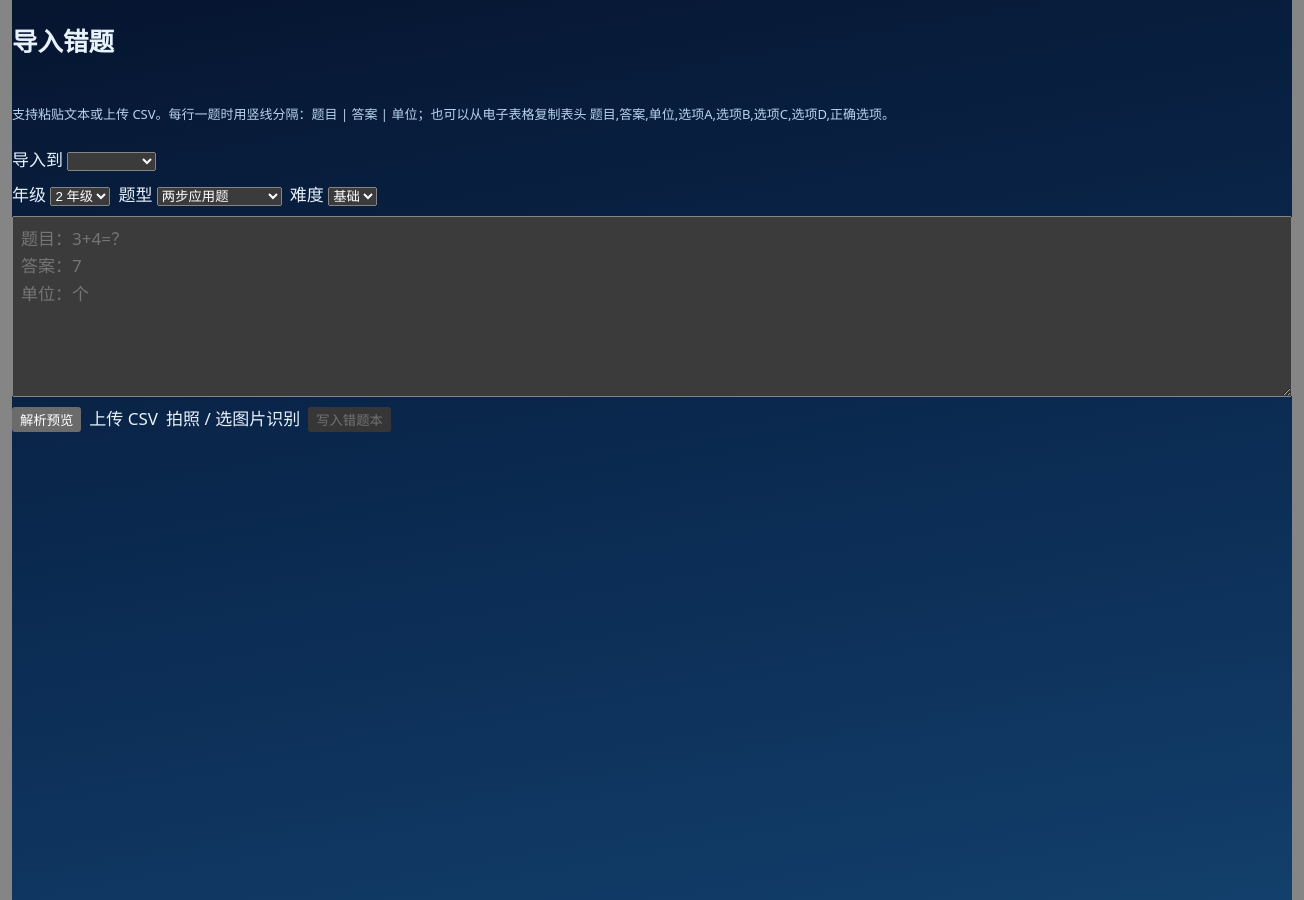
Scenario: MistakeImportSection › 解析预览并写入所选孩子的自定义题库
Type "题目：3+4=？ 答案：7 单位：个" into the text box with test id "mistake-import-text" at [652, 307], box [12,216,1292,397]
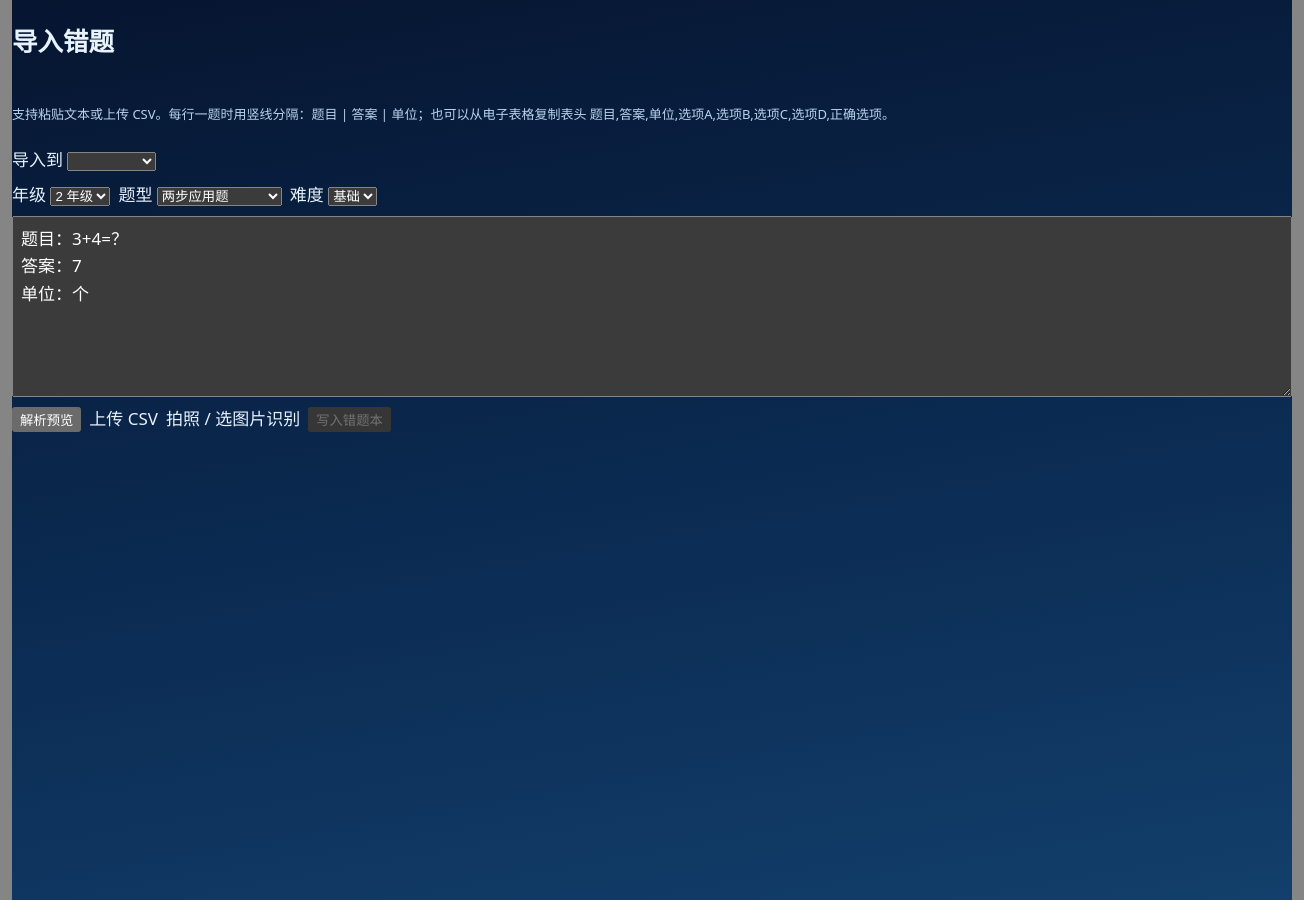
Click the button with test id "mistake-import-parse" at [47, 419], box [12,406,81,432]
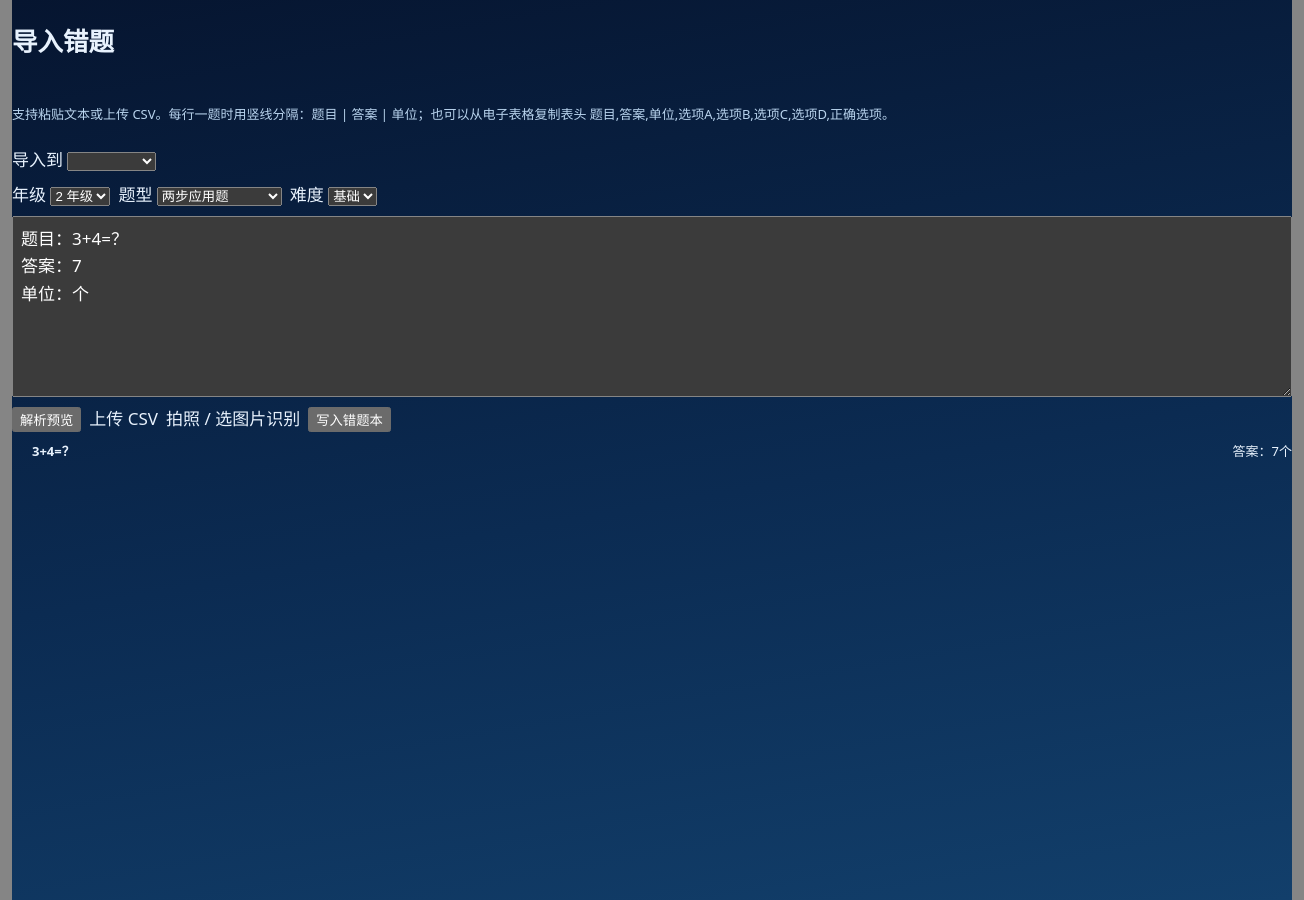
Check: the list with test id "mistake-import-preview" shows "3+4=？", box [32,442,75,460]
Click the button with test id "mistake-import-save" at [350, 419], box [308,406,391,432]
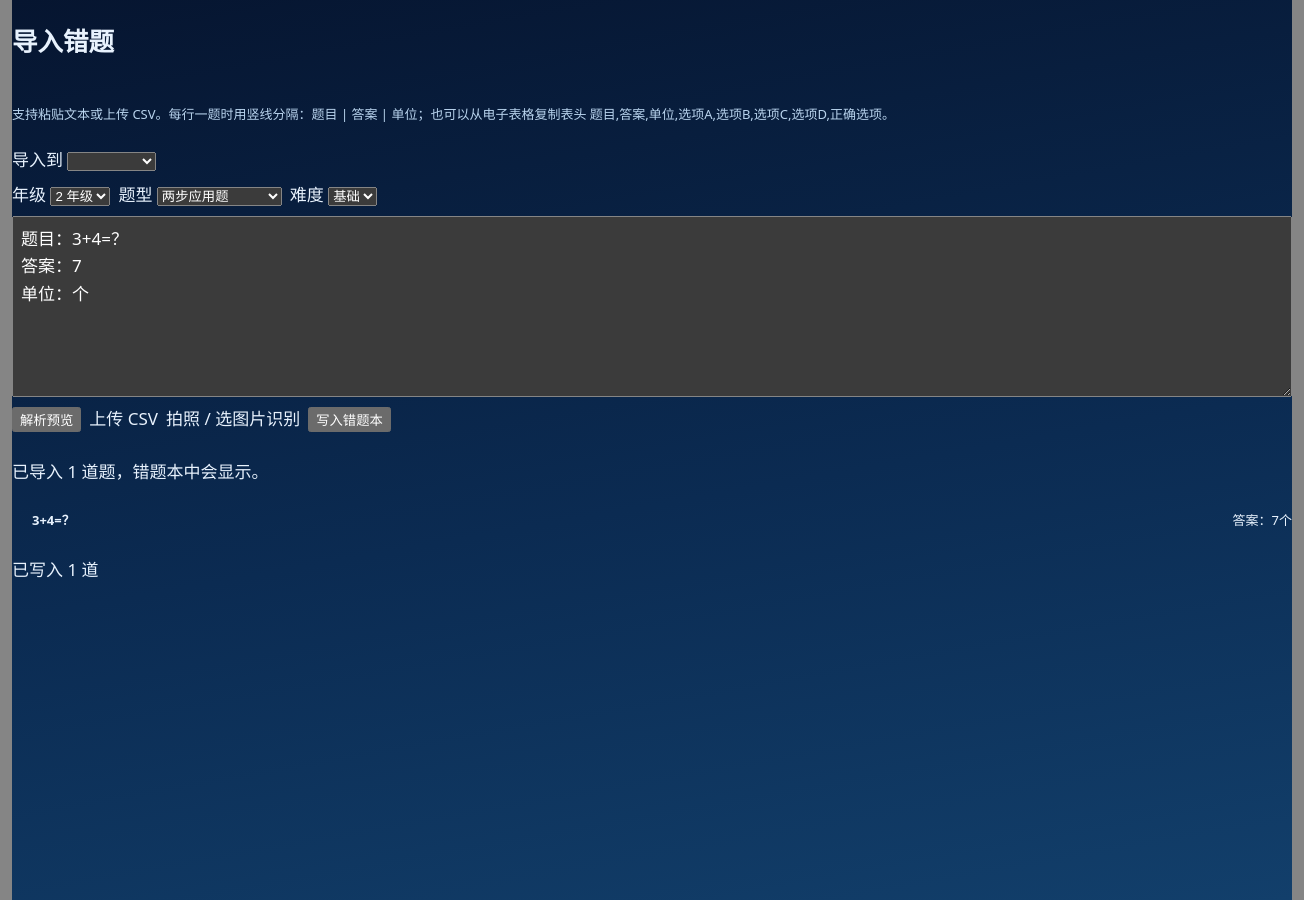
Check: the message with test id "mistake-import-message" shows "已导入 1 道题", box [12,460,269,483]
